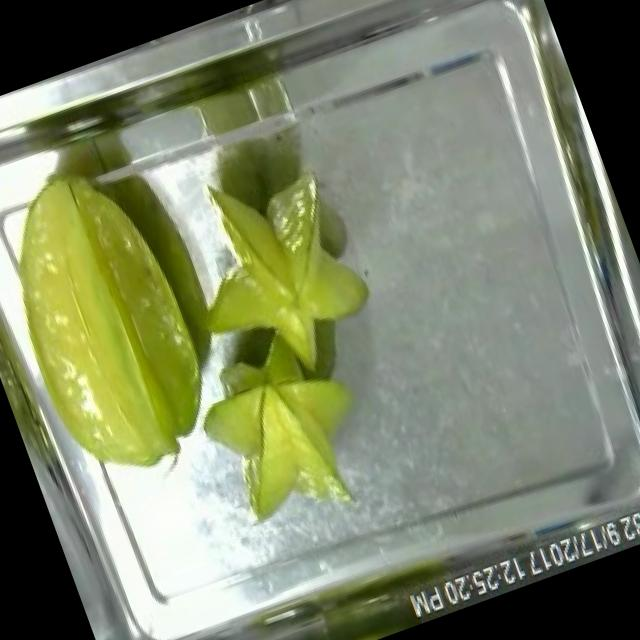fruit: (0, 127, 249, 497), (191, 135, 402, 406), (188, 349, 390, 554)
